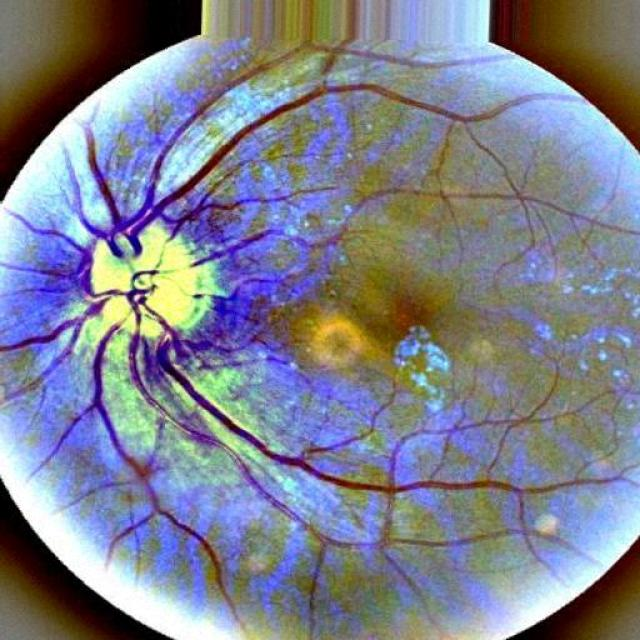Macula: (365, 282, 449, 343)
Nerves: (130, 300, 579, 547), (115, 86, 552, 257)
Optic Disk: (75, 219, 210, 353)
